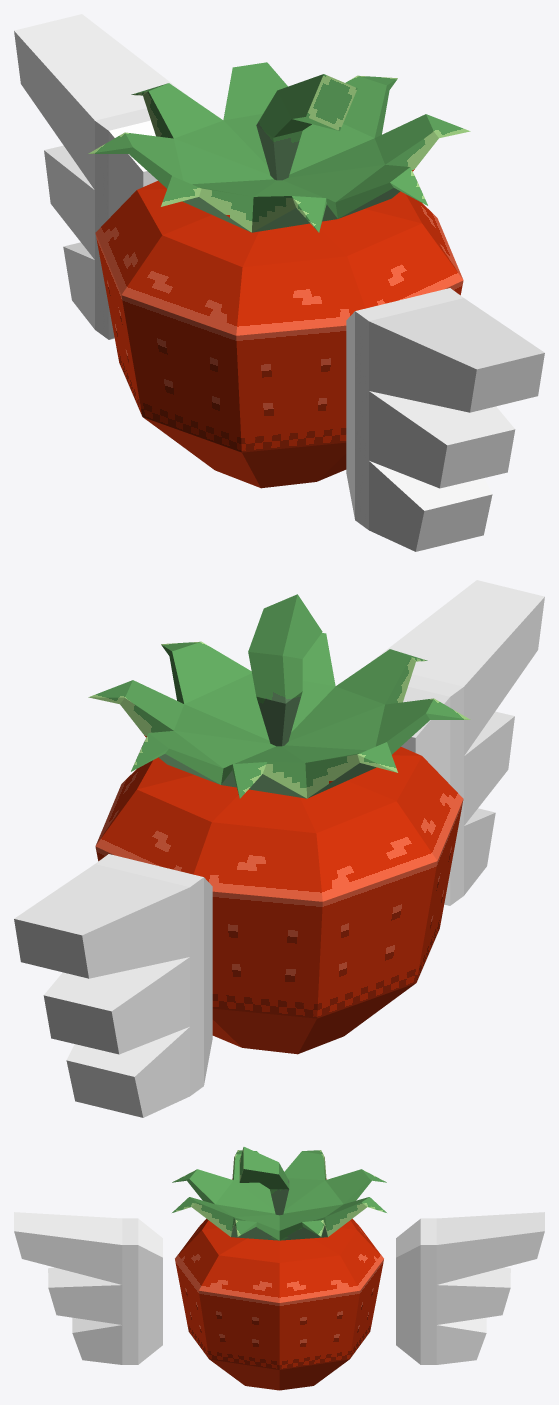
File: winged_berry.glb
3 renders of one model, top to bottom at view 1: azimuth 30°, elevation 25°; view 2: azimuth 150°, elevation 25°; view 3: azimuth 270°, elevation 25°, orthographic. The views are drawn at different scales.
Visible parts, largest first — view 1: Cube, Cube.002, Cube.001; view 2: Cube, Cube.002, Cube.001; view 3: Cube, Cube.002, Cube.001.
Part boxes in pixels (bbox=[...]): Cube: bbox=[88, 62, 470, 488]; Cube.002: bbox=[14, 14, 544, 551]; Cube.001: bbox=[256, 74, 357, 180]; Cube: bbox=[88, 633, 470, 1054]; Cube.002: bbox=[14, 580, 544, 1117]; Cube.001: bbox=[248, 594, 322, 746]; Cube: bbox=[172, 1150, 386, 1390]; Cube.002: bbox=[14, 1212, 544, 1364]; Cube.001: bbox=[239, 1147, 289, 1215].
Bounding box in the file's own units: 2 × 2.53 × 5.07.
Materials: 3 (3 with a texture image).
